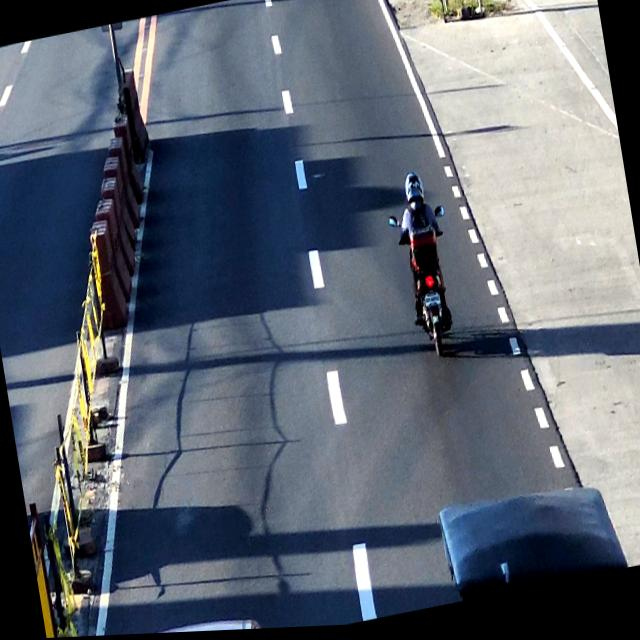Car: (114, 610, 271, 636)
License-Plate: (422, 294, 442, 313)
Motorcycle: (395, 181, 458, 366)
Tricycle: (431, 471, 629, 608)
